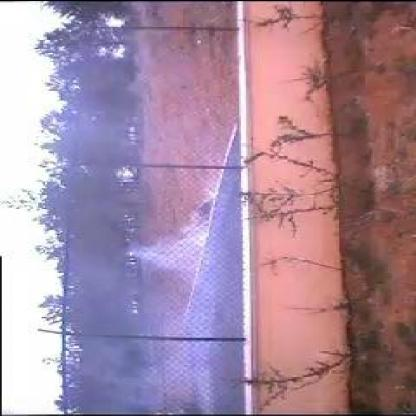-: (69, 160, 241, 340)
